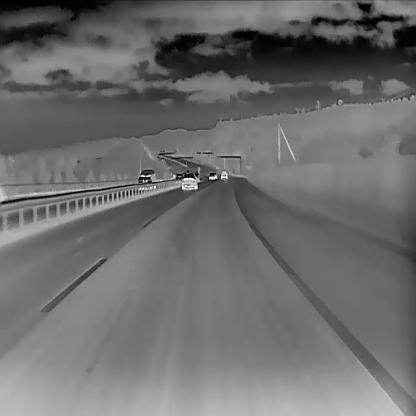car: (137, 168, 157, 191), (181, 173, 198, 190), (174, 172, 184, 183), (219, 170, 228, 180), (207, 171, 216, 179)
